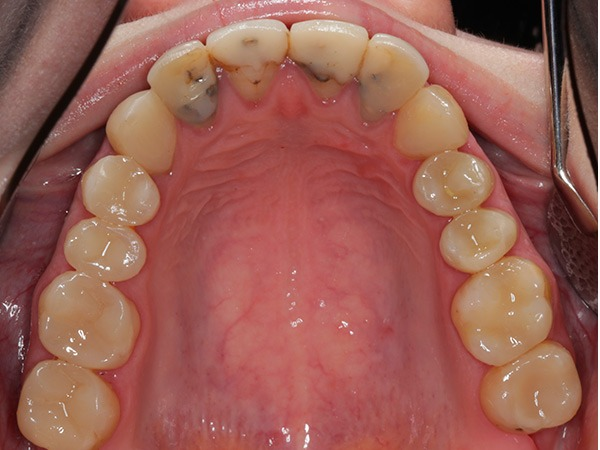UL1BC_healthy: (413, 154, 494, 211)
UL1M_healthy: (449, 265, 557, 349)
UL2BC_healthy: (436, 203, 519, 269)
UL2M_healthy: (482, 354, 584, 432)
ULCI_decay: (287, 18, 366, 107)
ULC_healthy: (391, 83, 470, 156)
ULLI_healthy: (359, 32, 429, 125)
UR1BC_healthy: (81, 156, 163, 228)
UR1M_healthy: (37, 274, 143, 370)
UR2BC_healthy: (66, 221, 150, 281)
UR2M_healthy: (18, 364, 123, 449)
URCI_decay: (210, 23, 288, 107)
URC_healthy: (103, 90, 184, 172)
URLI_decay: (148, 43, 224, 130)
